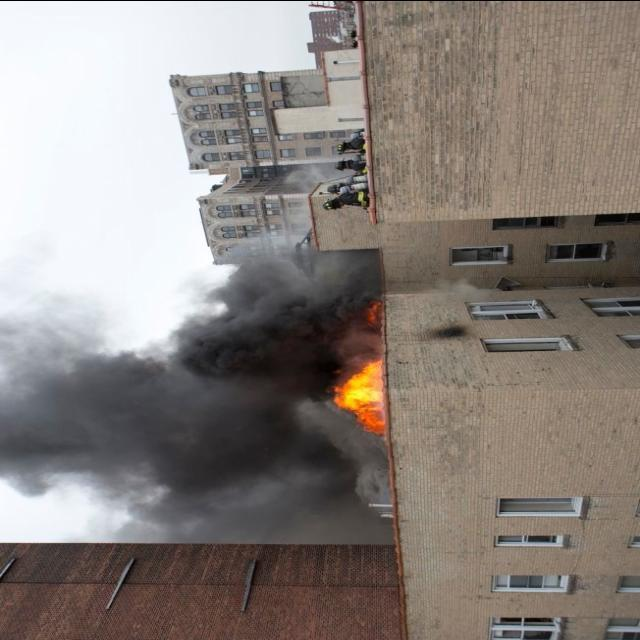Fire: (324, 353, 392, 435)
